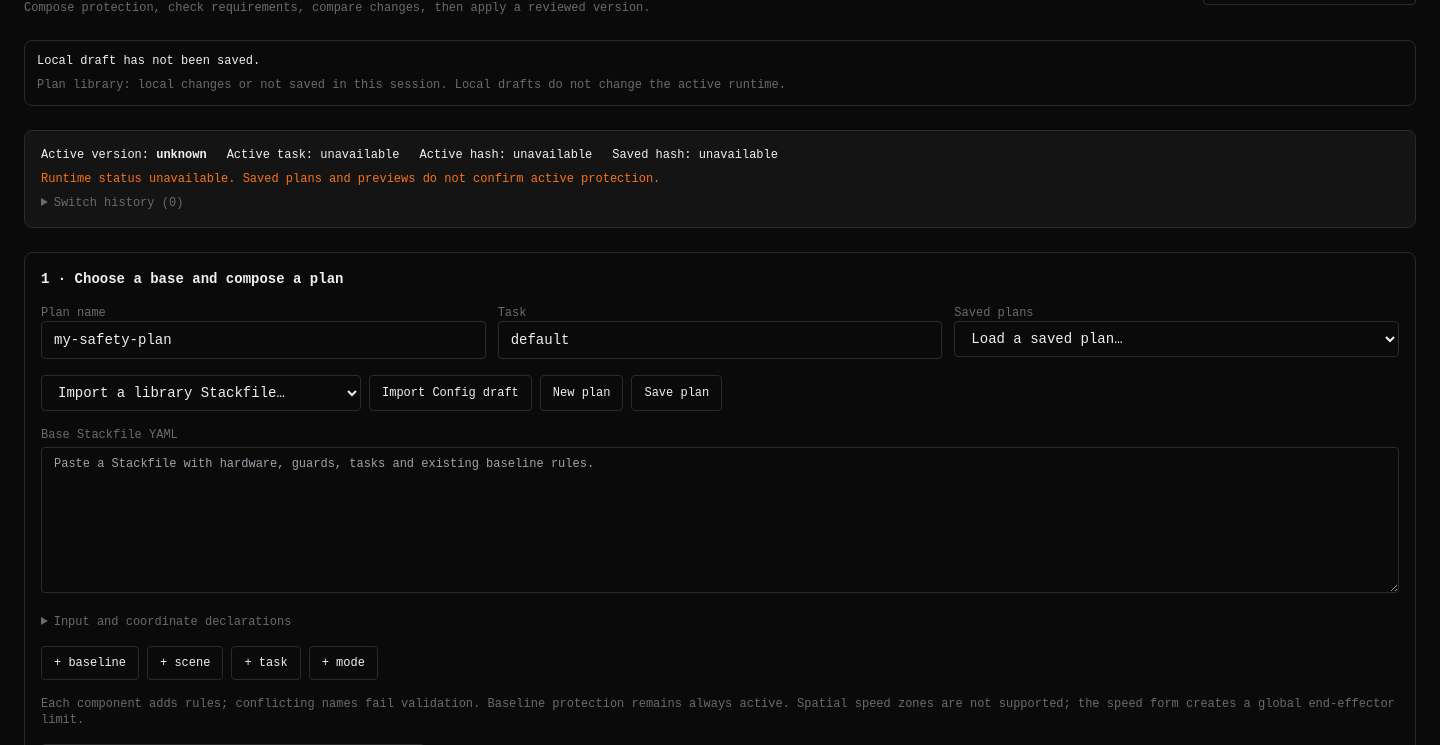
it: blocked compile cannot preview and diagnostics expose missing inputs
This screenshot has width=1440, height=745.
Replace the text in the text box labelled "Base Stackfile YAML" with "version: \"1\"" at (720, 520), box [41,447,1399,593]
(page scrolled)
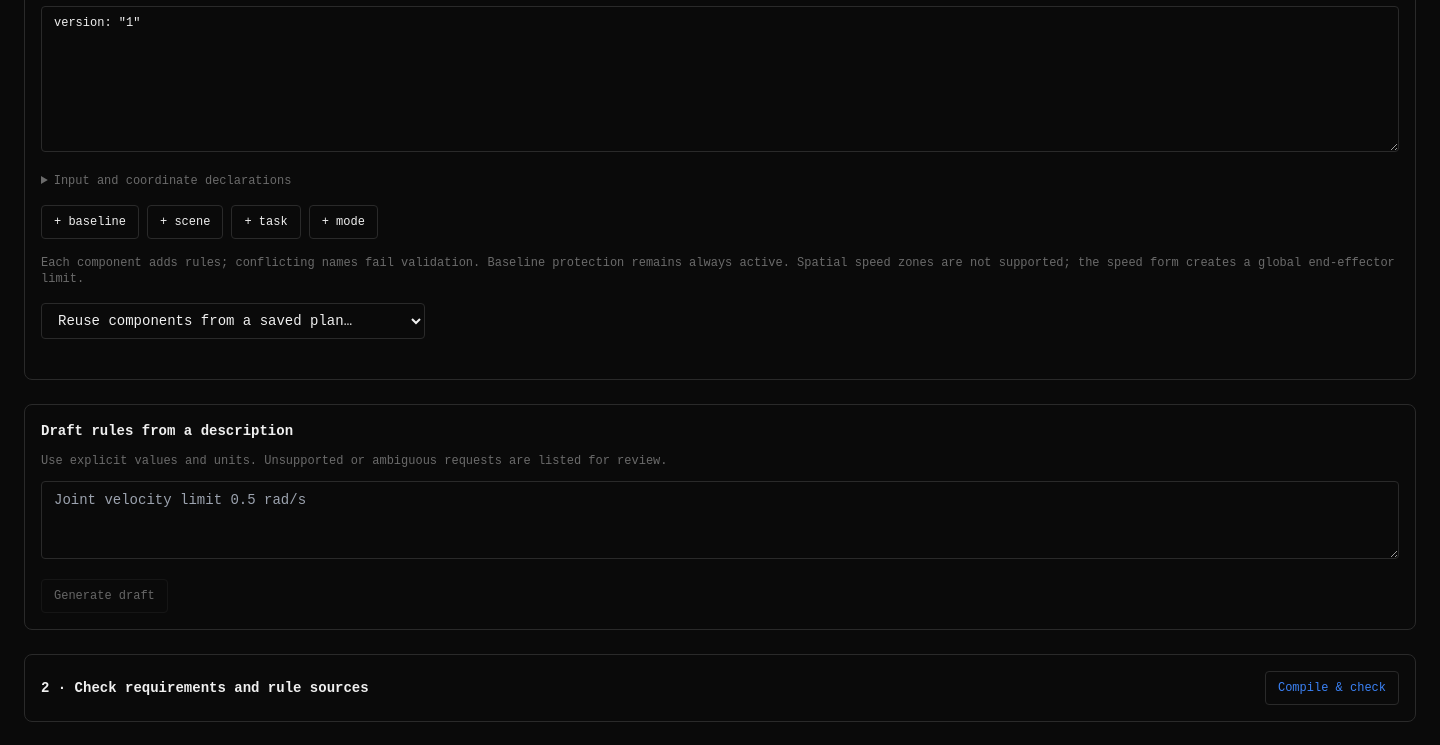
Click the button "Compile & check" at (1332, 688), box [1265,671,1399,705]
(page scrolled)
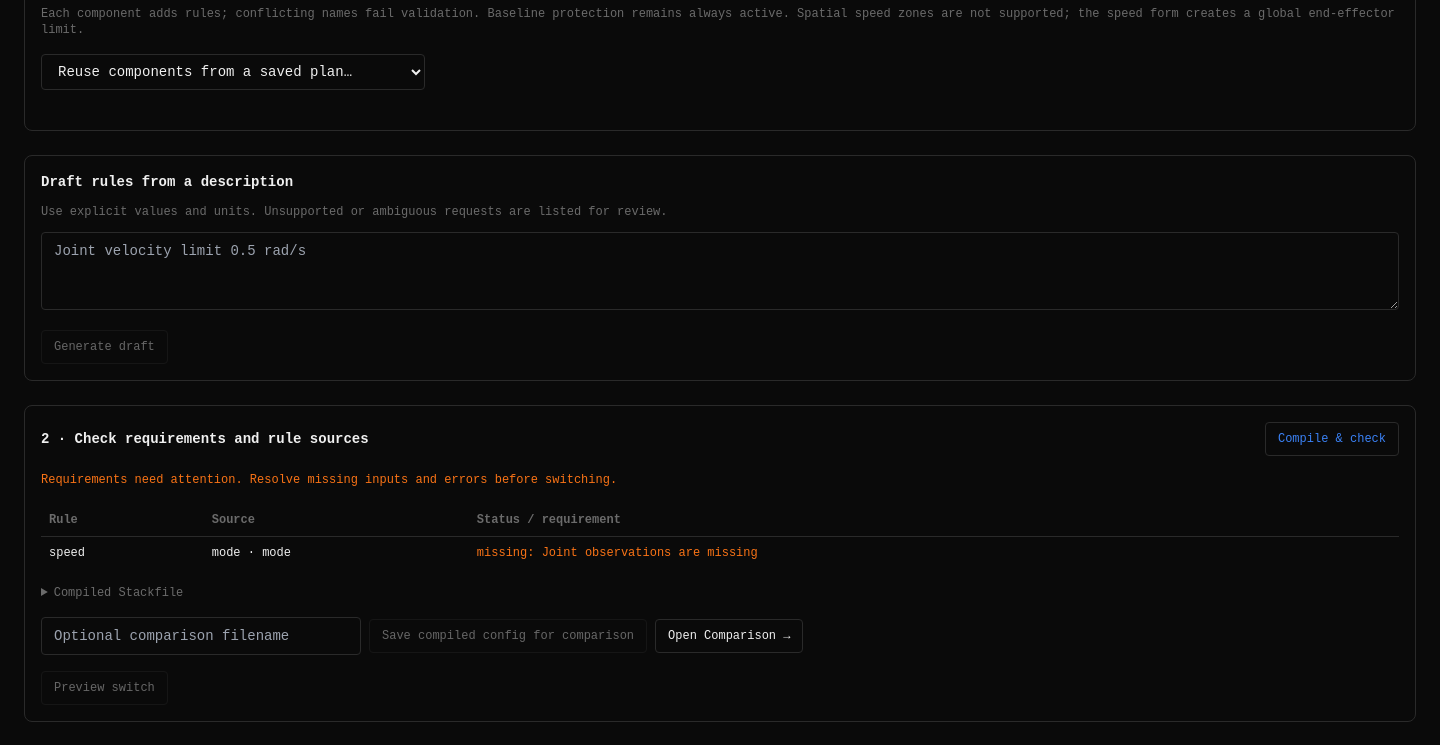
Result: the text "missing: Joint observations are missing" is shown at [477,546,758,560]
Result: the button "Preview switch" is disabled at [41,671,168,705]
